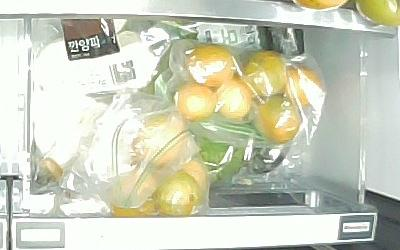tangerine_vinyl: (133, 116, 195, 166), (256, 94, 304, 145), (153, 170, 202, 217), (110, 170, 159, 217), (186, 44, 237, 88), (244, 51, 289, 98), (284, 65, 325, 110), (174, 83, 217, 122), (218, 80, 252, 121)
